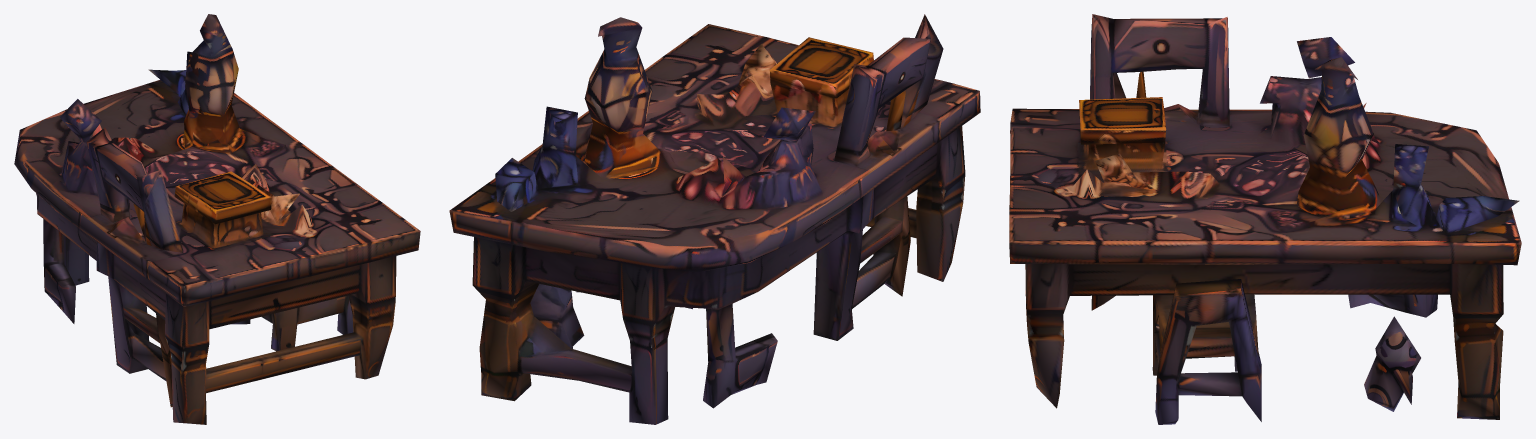
The model's file is wooden+table+3d+model.obj.
3 renders of one model, left to right at view 1: azimuth 30°, elevation 25°; view 2: azimuth 150°, elevation 25°; view 3: azimuth 270°, elevation 25°, orthographic. The views are drawn at different scales.
Parts seen in each view (by area): view 1: tripo_node_b8ccd4ed-a392-4929-954e-e882d1d344fc; view 2: tripo_node_b8ccd4ed-a392-4929-954e-e882d1d344fc; view 3: tripo_node_b8ccd4ed-a392-4929-954e-e882d1d344fc.
Part boxes in pixels (bbox=[...]): tripo_node_b8ccd4ed-a392-4929-954e-e882d1d344fc: bbox=[14, 14, 420, 424]; tripo_node_b8ccd4ed-a392-4929-954e-e882d1d344fc: bbox=[449, 14, 980, 424]; tripo_node_b8ccd4ed-a392-4929-954e-e882d1d344fc: bbox=[1009, 14, 1521, 424].
Size of the model in its own units: 0.6804 by 0.7194 by 1.
Materials: 1 (1 with a texture image).
